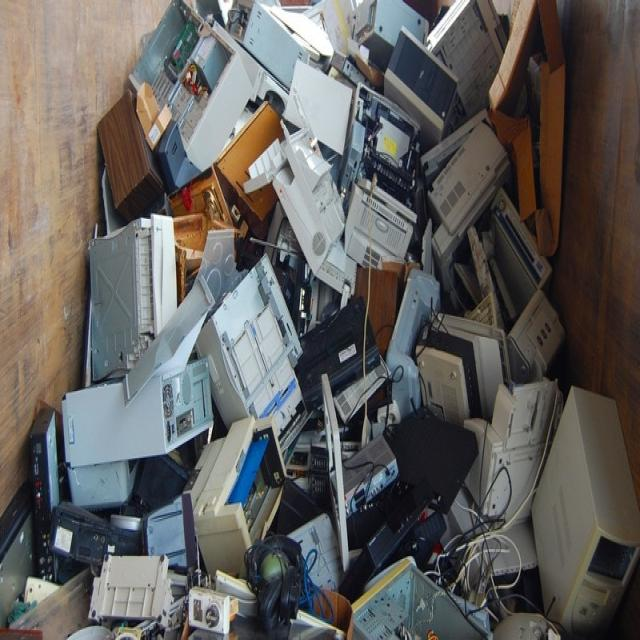Hazard: (19, 0, 627, 640)
